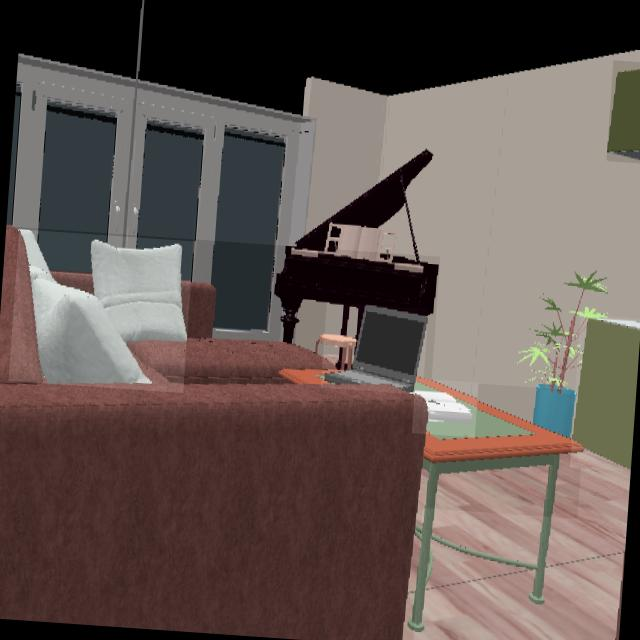book: (414, 379, 476, 435)
cabinet: (571, 315, 640, 471), (607, 66, 640, 162)
laptop: (321, 304, 427, 393)
pillow: (19, 229, 186, 385)
sofa: (0, 226, 428, 640)
table: (416, 379, 582, 508)
